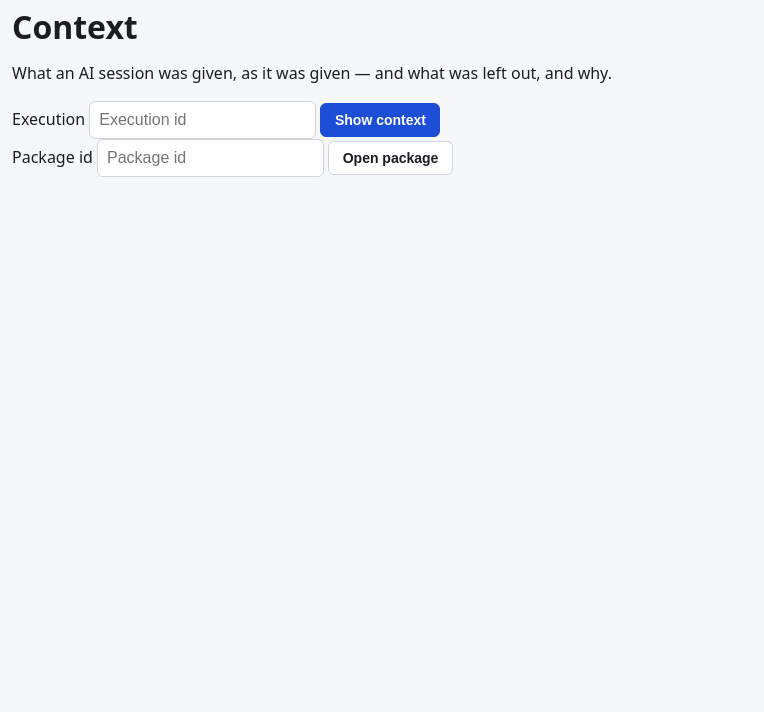
it: T1268 · the Context screen › opens a package and shows its items AND its exclusions (FR-CTX-071)
Type "ex_1" into the field labelled "Execution" at (203, 120), box [89,101,316,139]
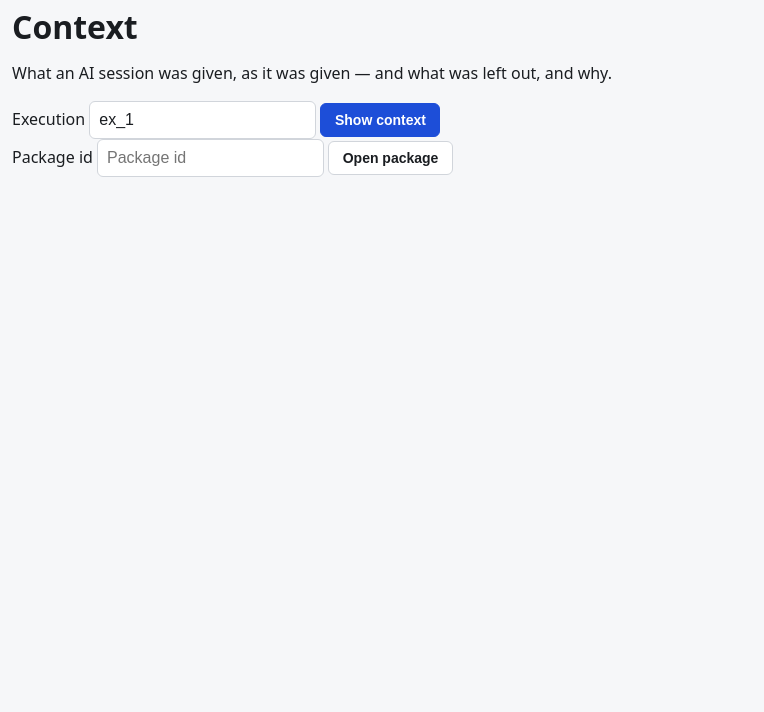
Click the button "Show context" at (380, 120), box [320,103,440,137]
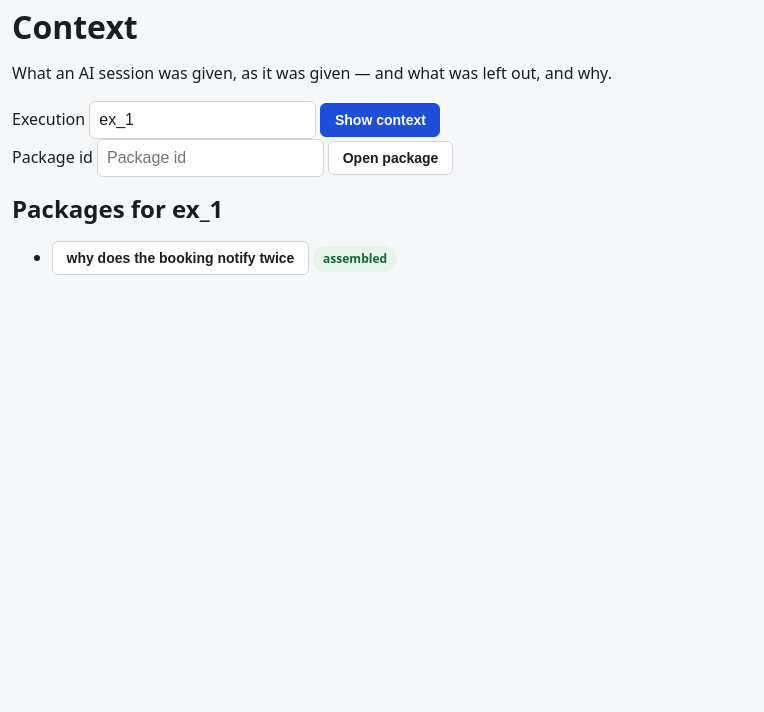
Check: the heading "Packages for ex_1" is shown, box [12,192,223,225]
Click the button "why does the booking notify twice" at (180, 258), box [52,241,309,275]
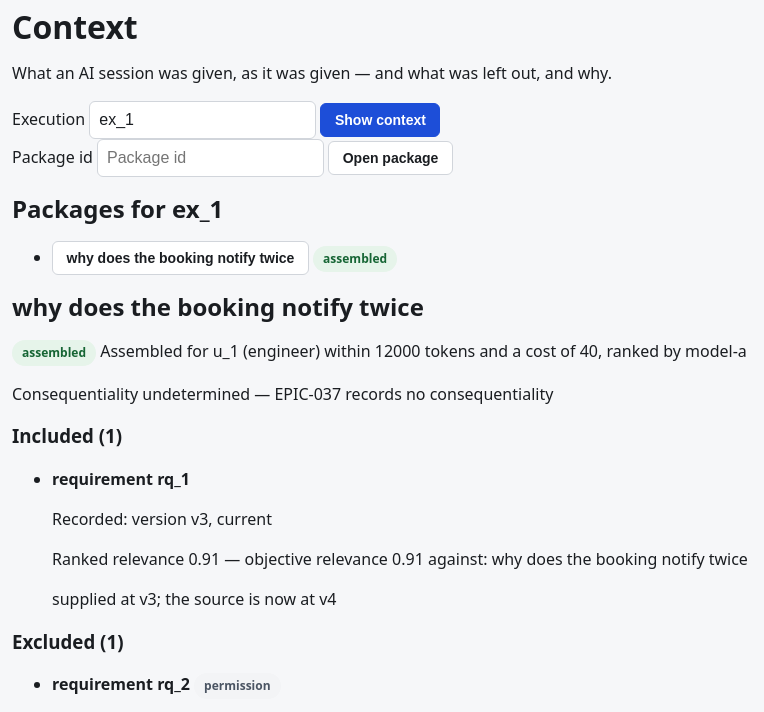
Check: the text "requirement rq_1" is shown, box [52,468,190,490]
Check: the text "requirement rq_2" is shown, box [52,673,190,695]
